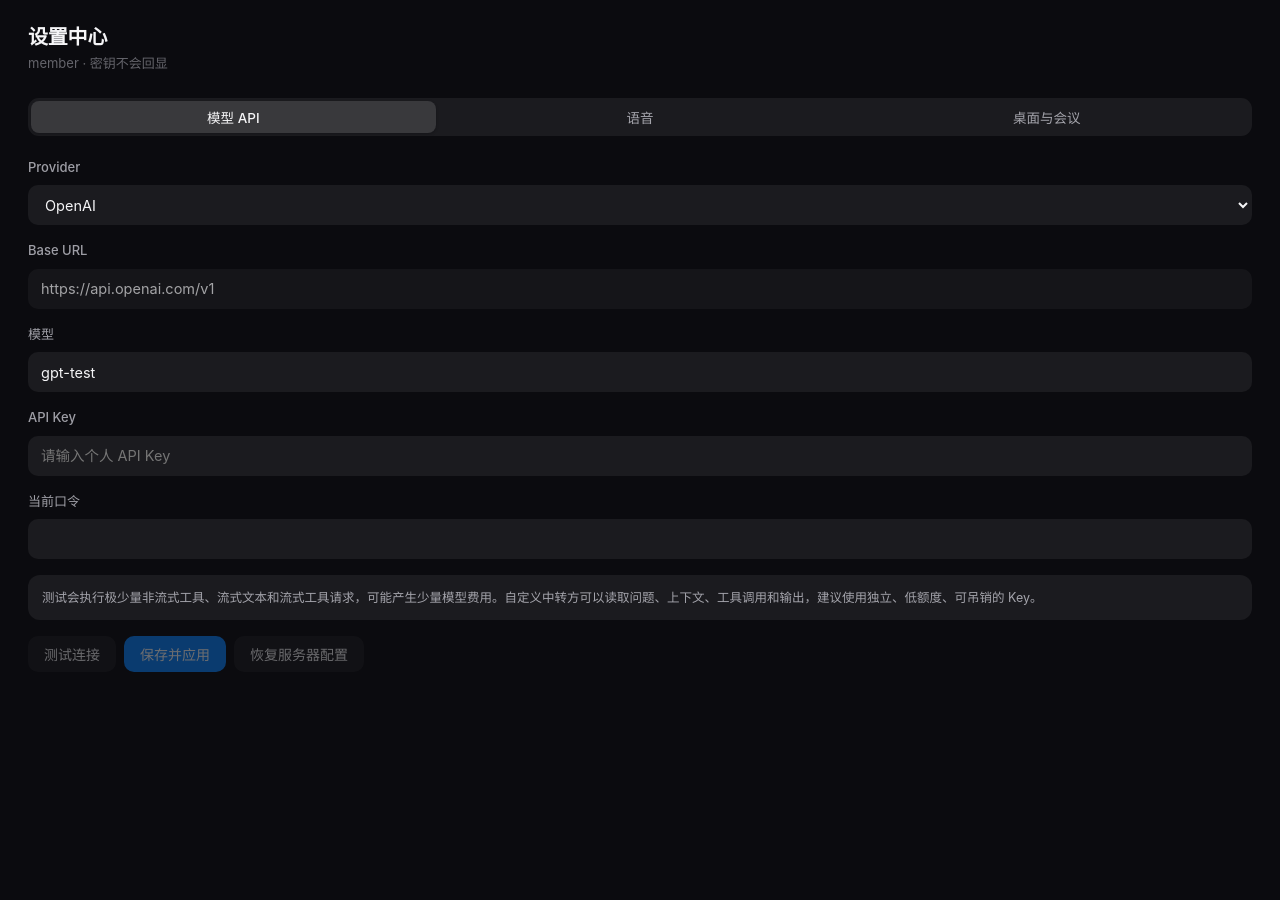
Test case: 「桌面与会议」页签 › 隐藏悬浮球：先写服务端偏好，再走本机快路径
The width and height of the screenshot is (1280, 900).
Click the tab "桌面与会议" at coordinates (1047, 116), box [844, 100, 1249, 132]
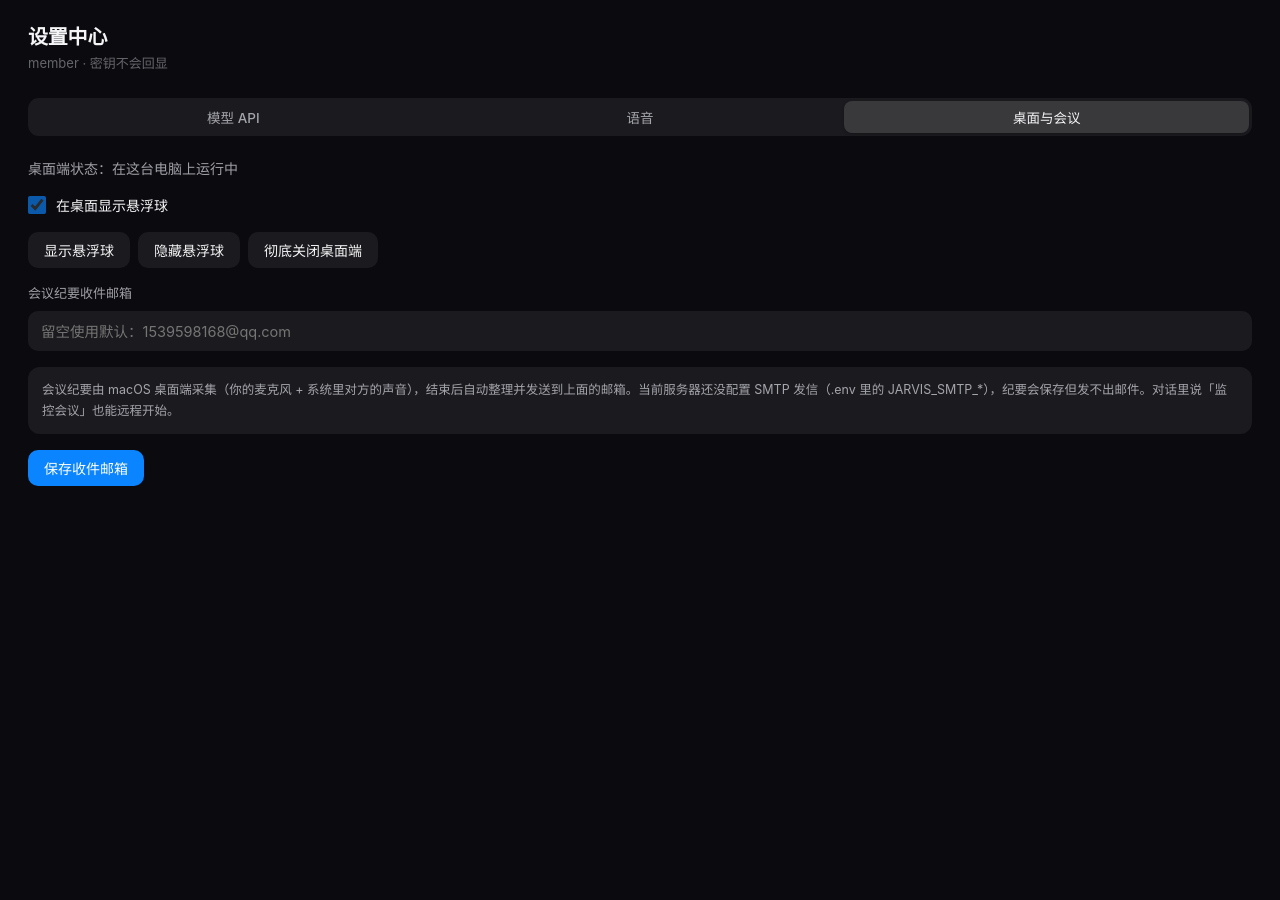
Expected: the text "桌面端状态：在这台电脑上运行中" is shown, [28, 160, 238, 176]
Click the button "隐藏悬浮球" at coordinates (189, 250), box [138, 232, 240, 268]
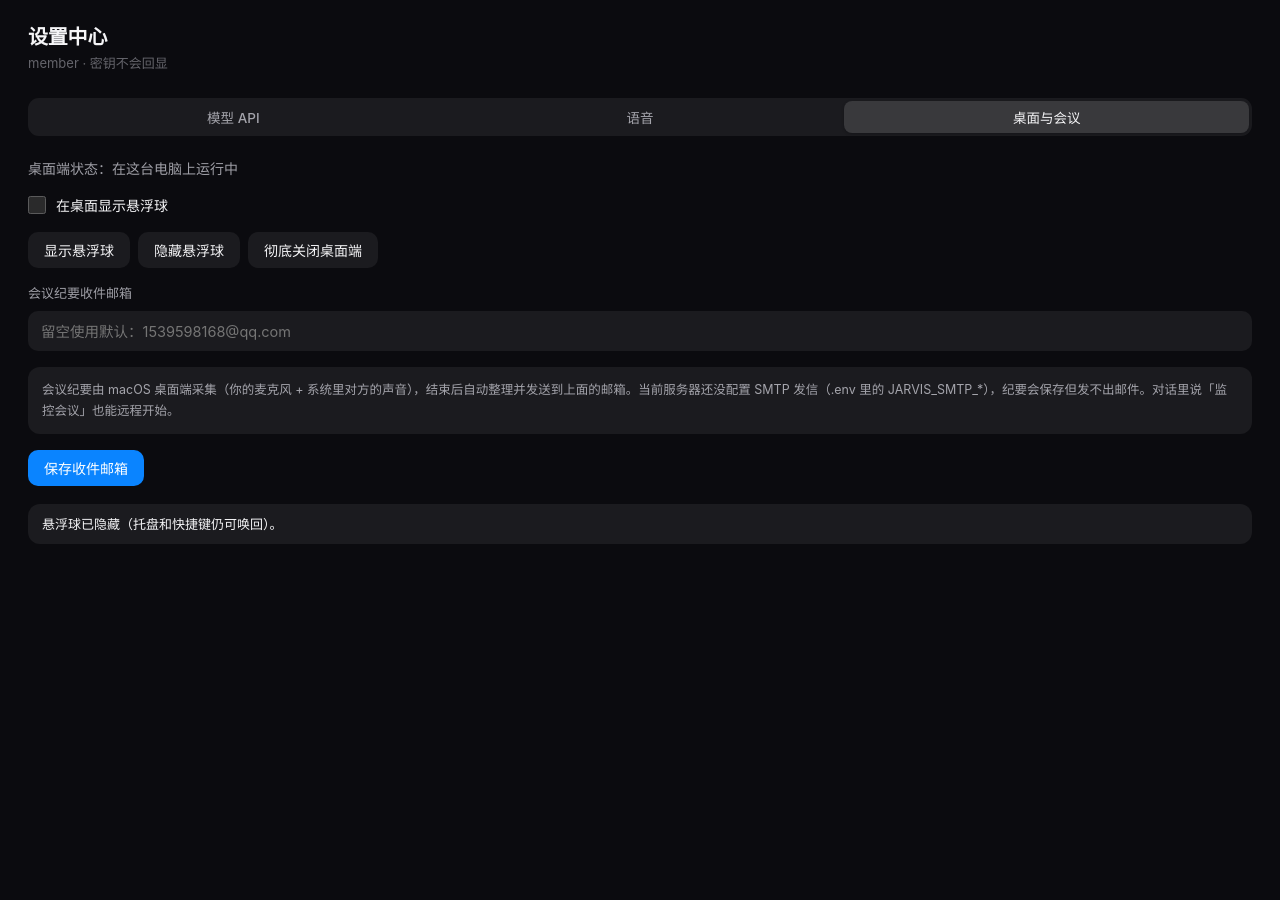
Expected: the text "悬浮球已隐藏（托盘和快捷键仍可唤回）。" is shown, [28, 504, 1252, 544]
